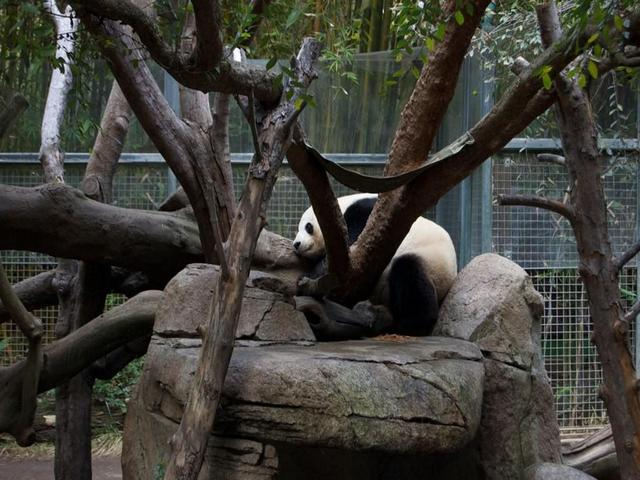panda: (256, 148, 536, 368)
